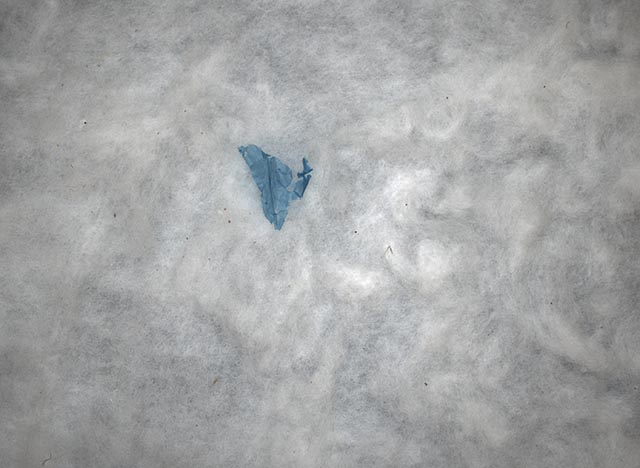plastic film: (238, 144, 312, 231)
